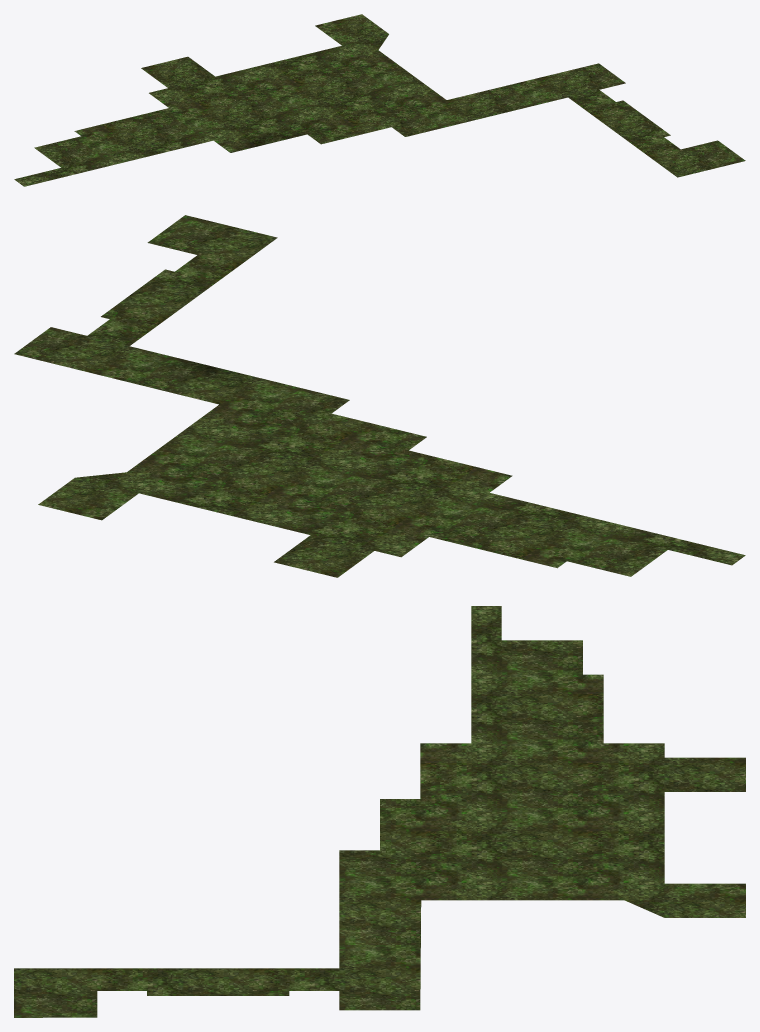
File: OVERHILL_A_01_LINE225.fbx
The picture shows the model from 3 angles, top to bottom: view 1: azimuth 30°, elevation 25°; view 2: azimuth 150°, elevation 25°; view 3: azimuth 270°, elevation 25°; orthographic projection. The views are drawn at different scales.
Parts seen in each view (by area): view 1: OVERHILL_A_01_LINE225; view 2: OVERHILL_A_01_LINE225; view 3: OVERHILL_A_01_LINE225.
Part boxes in pixels (x1=…): OVERHILL_A_01_LINE225: x1=14, y1=14, x2=745, y2=186; OVERHILL_A_01_LINE225: x1=14, y1=215, x2=745, y2=577; OVERHILL_A_01_LINE225: x1=14, y1=606, x2=745, y2=1017.
Bounding box in the file's own units: 240000 × 0.116 × 180344.
Materials: 1 (1 with a texture image).
